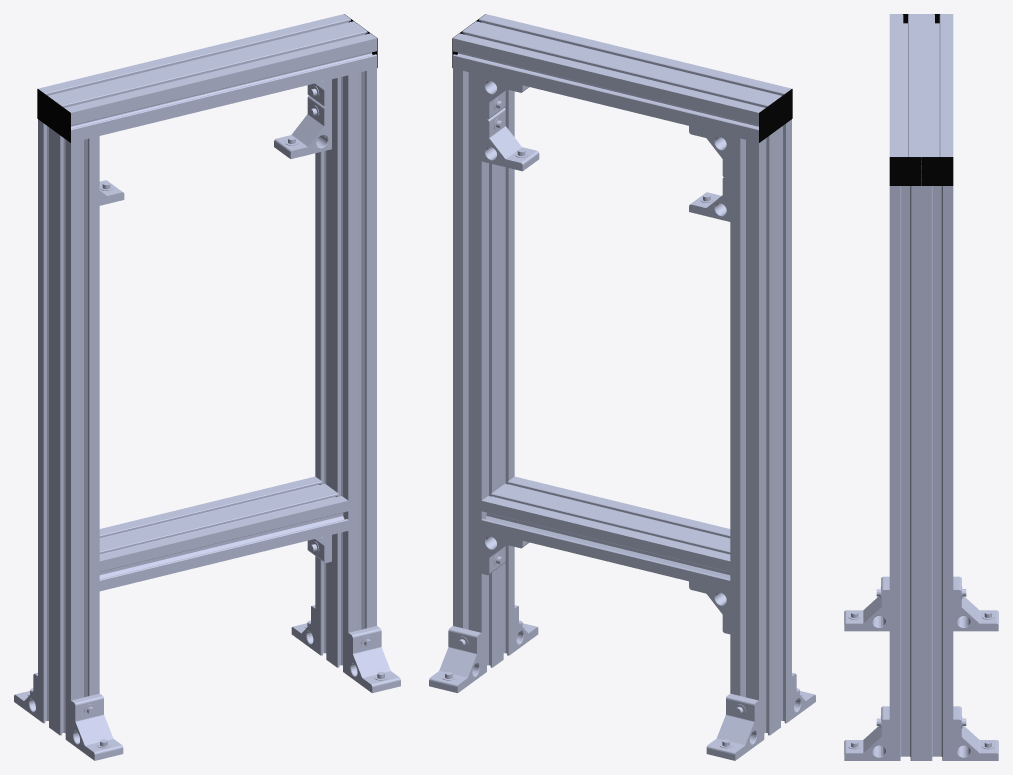
File: suporte_aramis.dae
3 views of the same model, side by side, from view 1: azimuth 30°, elevation 25°; view 2: azimuth 150°, elevation 25°; view 3: azimuth 270°, elevation 25° (orthographic). The views are drawn at different scales.
Parts seen in each view (by area): view 1: suporte_base, suporte_kinect, suporte_armControl; view 2: suporte_base, suporte_kinect, suporte_armControl; view 3: suporte_base, suporte_kinect, tampa3, tampa4.
Boxes of the visible parts, bbox=[...] form: suporte_base: bbox=[14, 68, 400, 760]; suporte_kinect: bbox=[38, 14, 376, 142]; suporte_armControl: bbox=[99, 476, 348, 591]; suporte_base: bbox=[429, 68, 815, 760]; suporte_kinect: bbox=[453, 14, 791, 142]; suporte_armControl: bbox=[481, 476, 730, 591]; suporte_base: bbox=[844, 186, 998, 760]; suporte_kinect: bbox=[889, 14, 953, 185]; tampa3: bbox=[889, 157, 921, 185]; tampa4: bbox=[921, 157, 953, 185].
Bounding box in the file's own units: 0.322 × 0.146 × 0.63.
